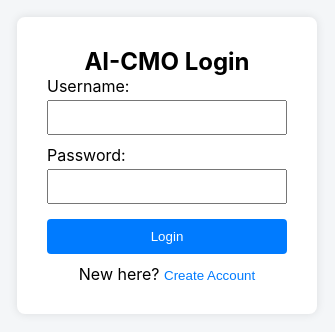
Scenario: Login Component › should toggle to signup form
Click the button with test id "toggle-to-signup".
click(210, 275)  # box [164,268,255,282]
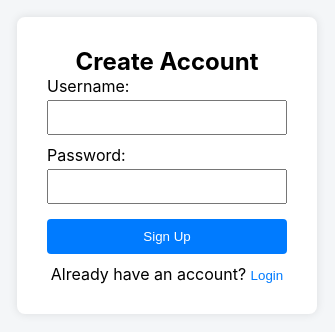
Result: the heading "Create Account" is shown at [76,46,258,76]
Result: the button "Sign Up" is shown at [47,218,287,254]
